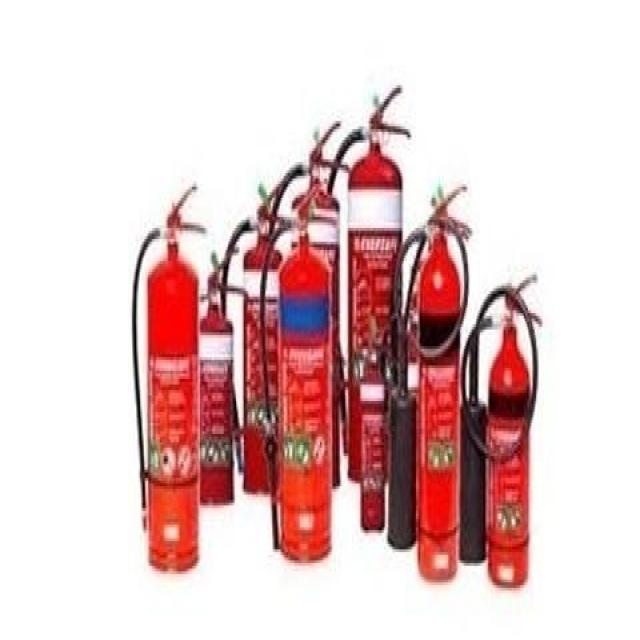fire_extinguisher: (320, 76, 412, 493), (385, 175, 471, 590), (265, 114, 351, 501), (257, 172, 339, 570), (127, 174, 208, 576), (454, 264, 545, 593), (214, 177, 286, 510), (191, 240, 237, 512), (355, 317, 386, 537)
